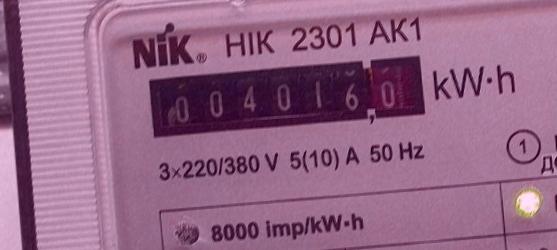0: (272, 79, 295, 115), (170, 91, 194, 125), (376, 76, 398, 110), (205, 86, 226, 121)
1: (309, 75, 327, 110)
4: (239, 80, 259, 116)
6: (340, 78, 361, 111)
screen: (140, 48, 434, 145)
